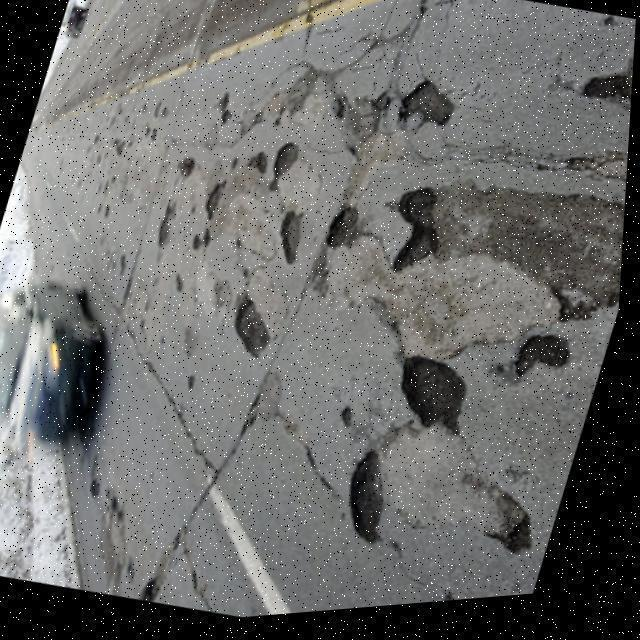Pothole: (306, 174, 624, 360), (346, 356, 535, 556), (511, 332, 575, 381), (396, 77, 457, 128), (232, 289, 274, 359), (267, 138, 301, 193), (276, 208, 305, 264)
